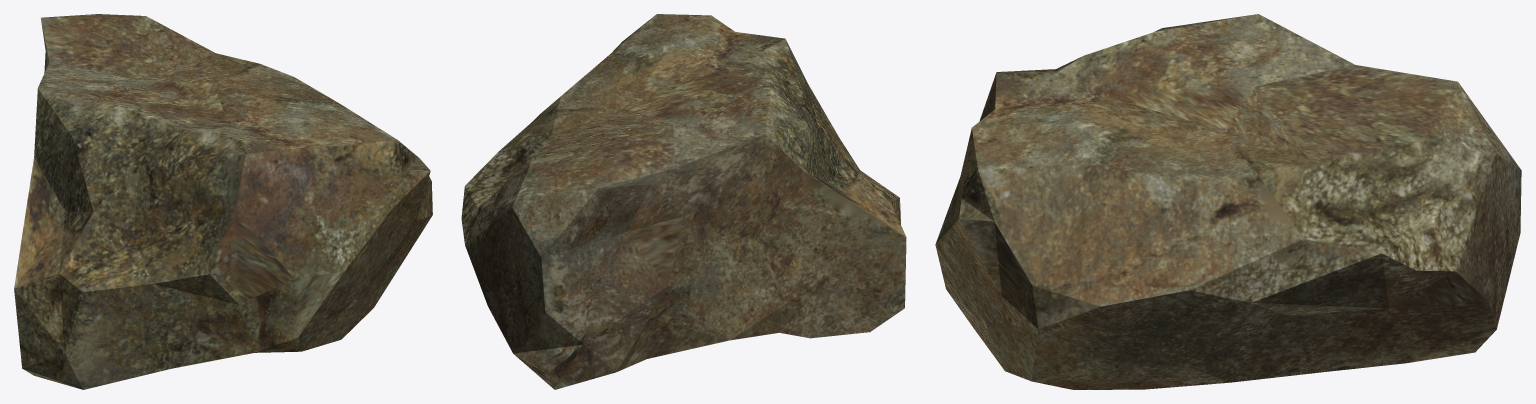
The model's file is rock_3.dae.
The picture shows the model from 3 angles, left to right: view 1: azimuth 30°, elevation 25°; view 2: azimuth 150°, elevation 25°; view 3: azimuth 270°, elevation 25°; orthographic projection. The views are drawn at different scales.
Parts seen in each view (by area): view 1: node; view 2: node; view 3: node.
Boxes of the visible parts, x1=… form: node: x1=14, y1=14, x2=432, y2=389; node: x1=461, y1=14, x2=906, y2=389; node: x1=935, y1=14, x2=1521, y2=389.
Bounding box in the file's own units: 18.89 × 10.89 × 21.2.
